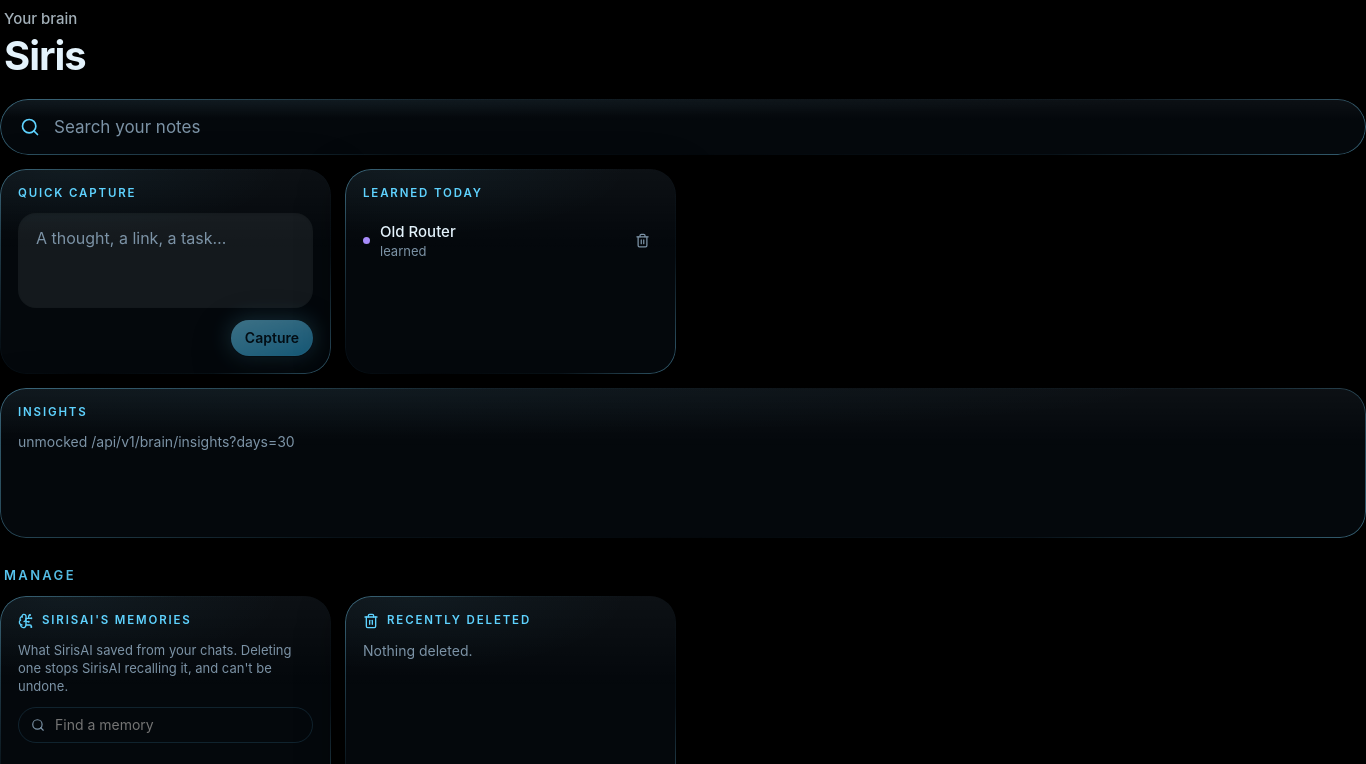
Deleting from Siris › shows a refusal in the sheet and deletes nothing
This screenshot has width=1366, height=764.
Type "router" into the field with placeholder "Search your notes" at (699, 127), box x1=52 y1=99 x2=1346 y2=155
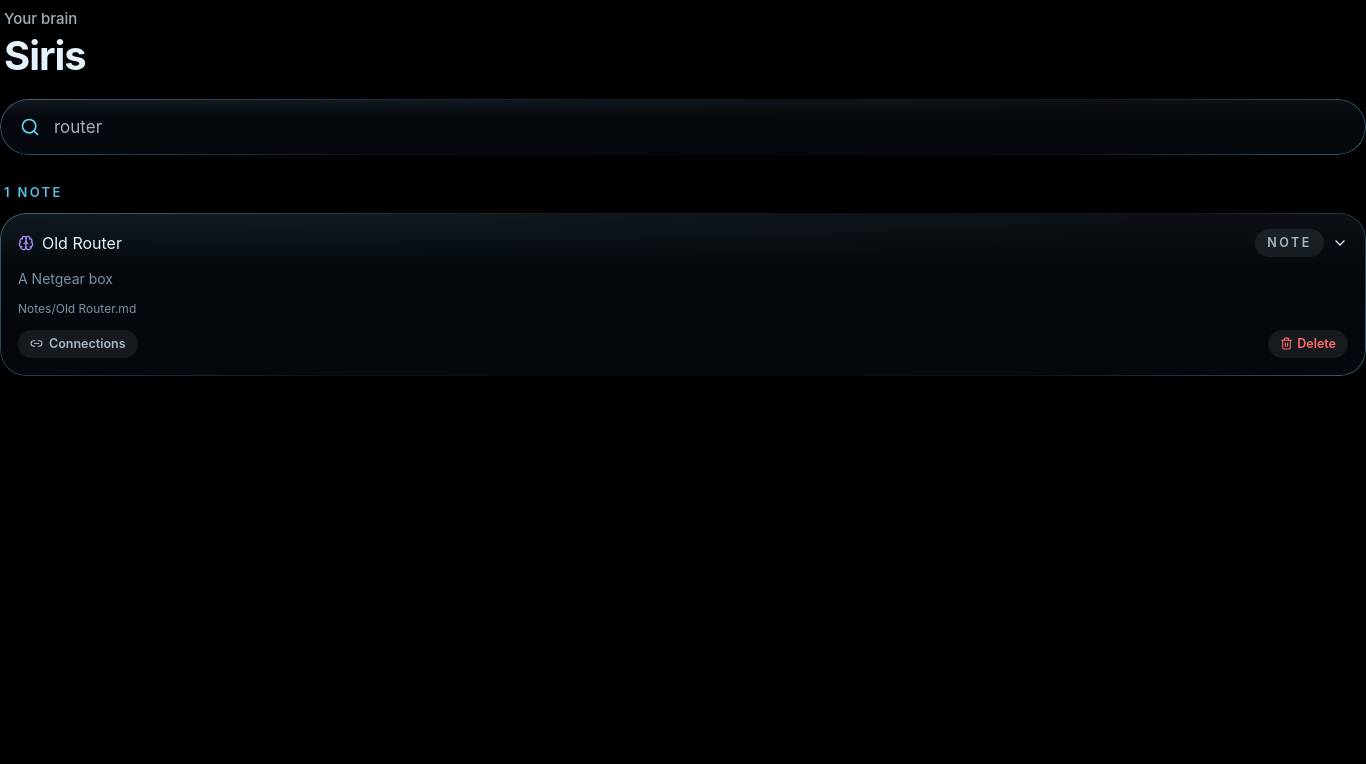
Click the button with aria-label "Delete Old Router" at (1308, 344), box x1=1268 y1=330 x2=1348 y2=358
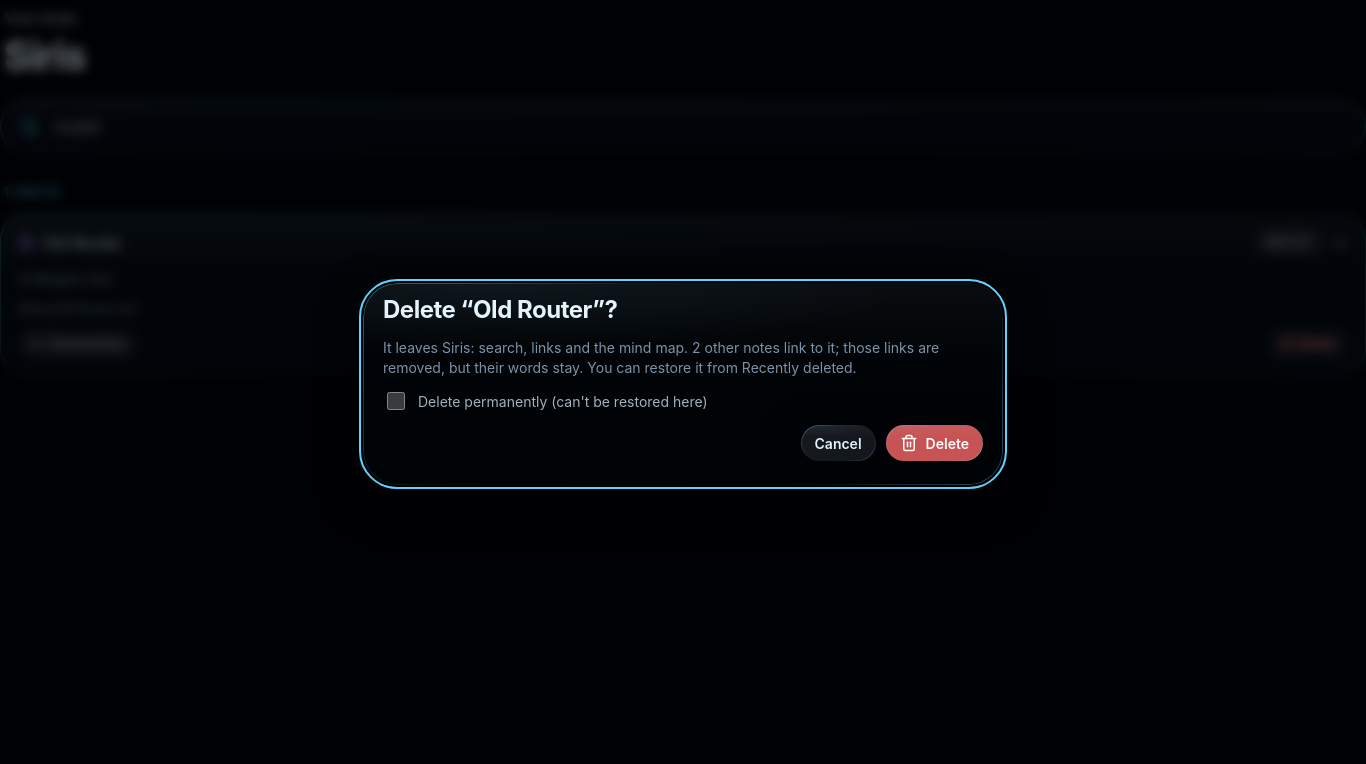
Click the button "Delete" at (934, 443), box x1=886 y1=425 x2=983 y2=461
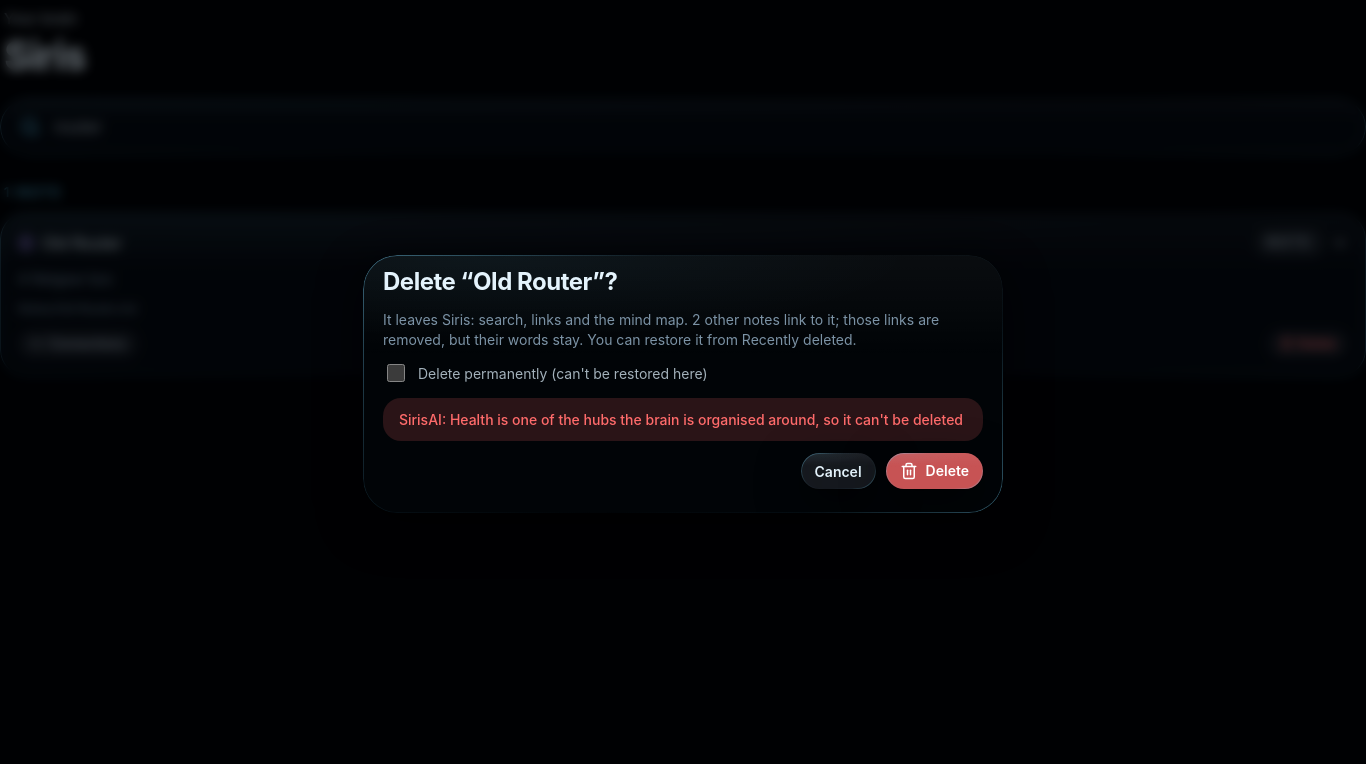
Expected: the message shows "hubs the brain is organised around", x1=399 y1=411 x2=963 y2=428
